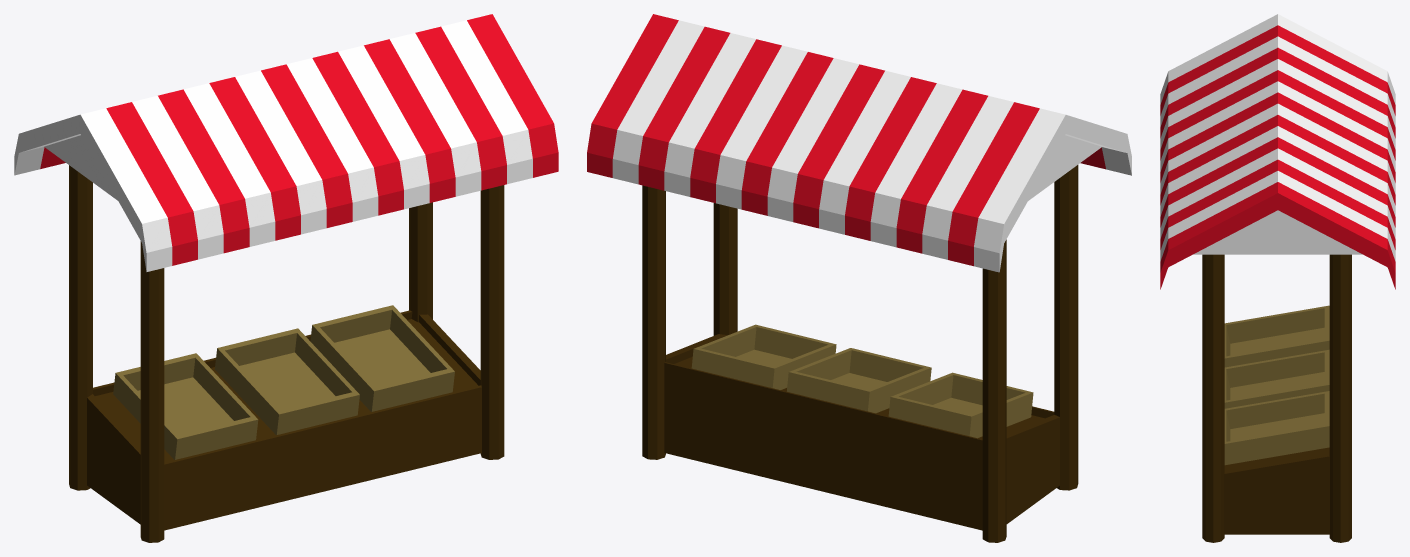
Rendered from MarketStand.fbx.
The picture shows the model from 3 angles, left to right: view 1: azimuth 30°, elevation 25°; view 2: azimuth 150°, elevation 25°; view 3: azimuth 270°, elevation 25°; orthographic projection. The views are drawn at different scales.
Visible parts, largest first — view 1: Cube; view 2: Cube; view 3: Cube.
Boxes of the visible parts, left/top/right/bottom form: Cube: left=14, top=14, right=558, bottom=542; Cube: left=587, top=14, right=1131, bottom=542; Cube: left=1160, top=14, right=1395, bottom=542.
Bounding box in the file's own units: 661 × 621 × 367.
